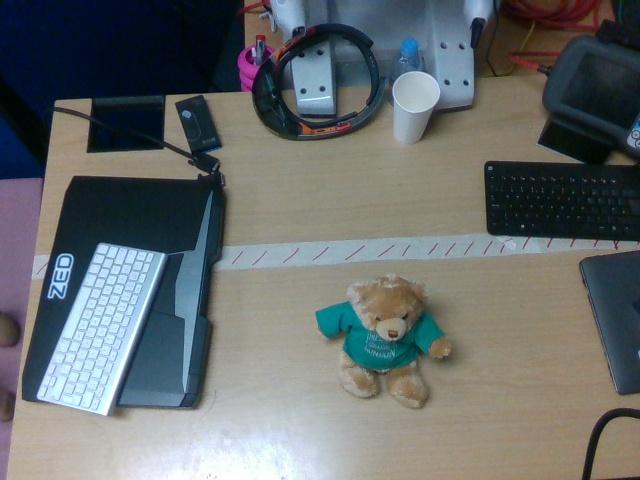teddy: (315, 275, 451, 408)
